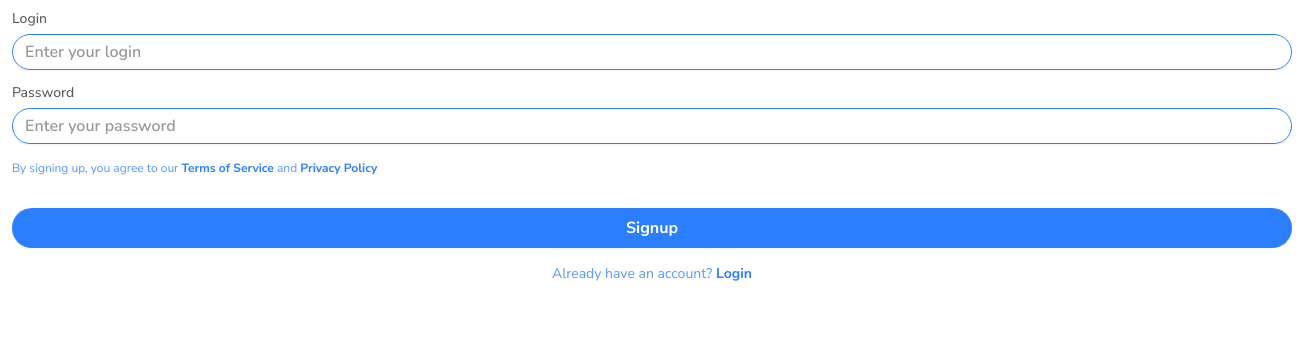
SignupForm › should show validation errors for empty fields
Click the button "Signup" at coordinates (652, 228), box [12,208,1292,248]
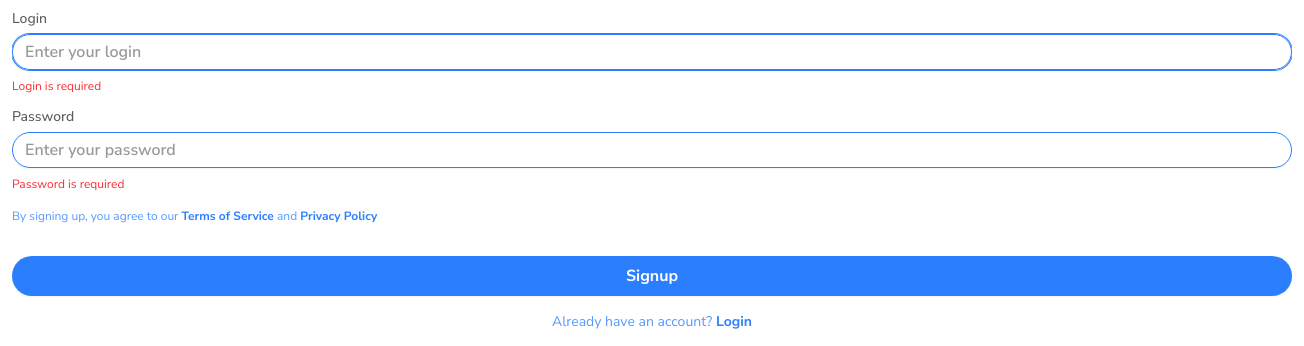
Expected: the text "Login is required" is shown, [12,78,101,94]
Expected: the text "Password is required" is shown, [12,176,124,192]
